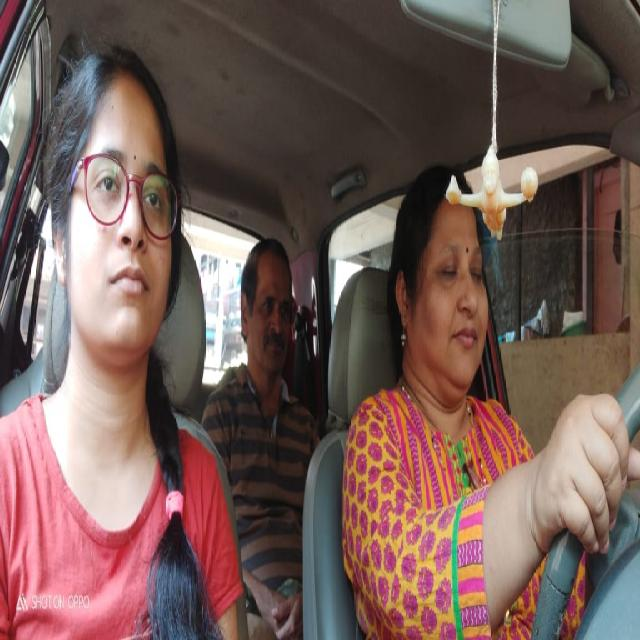drowsy: (394, 157, 501, 440)
person: (37, 21, 190, 388), (236, 226, 303, 403)
